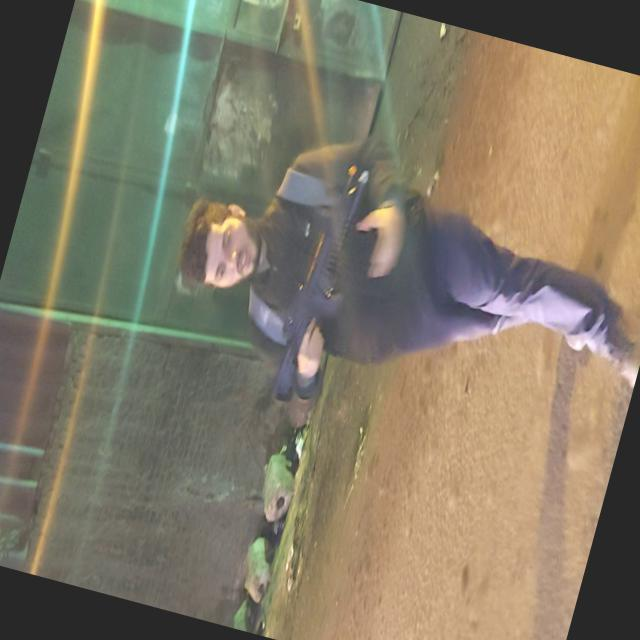long weapon: (245, 142, 393, 440)
